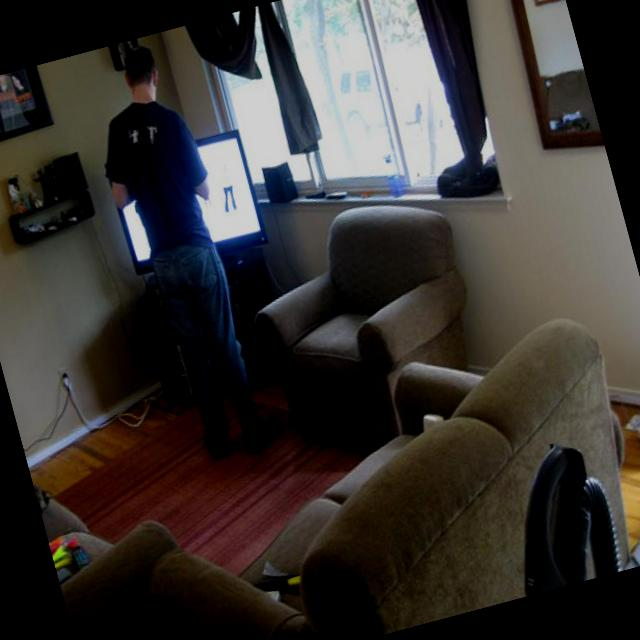Vehicle: (328, 44, 447, 154)
